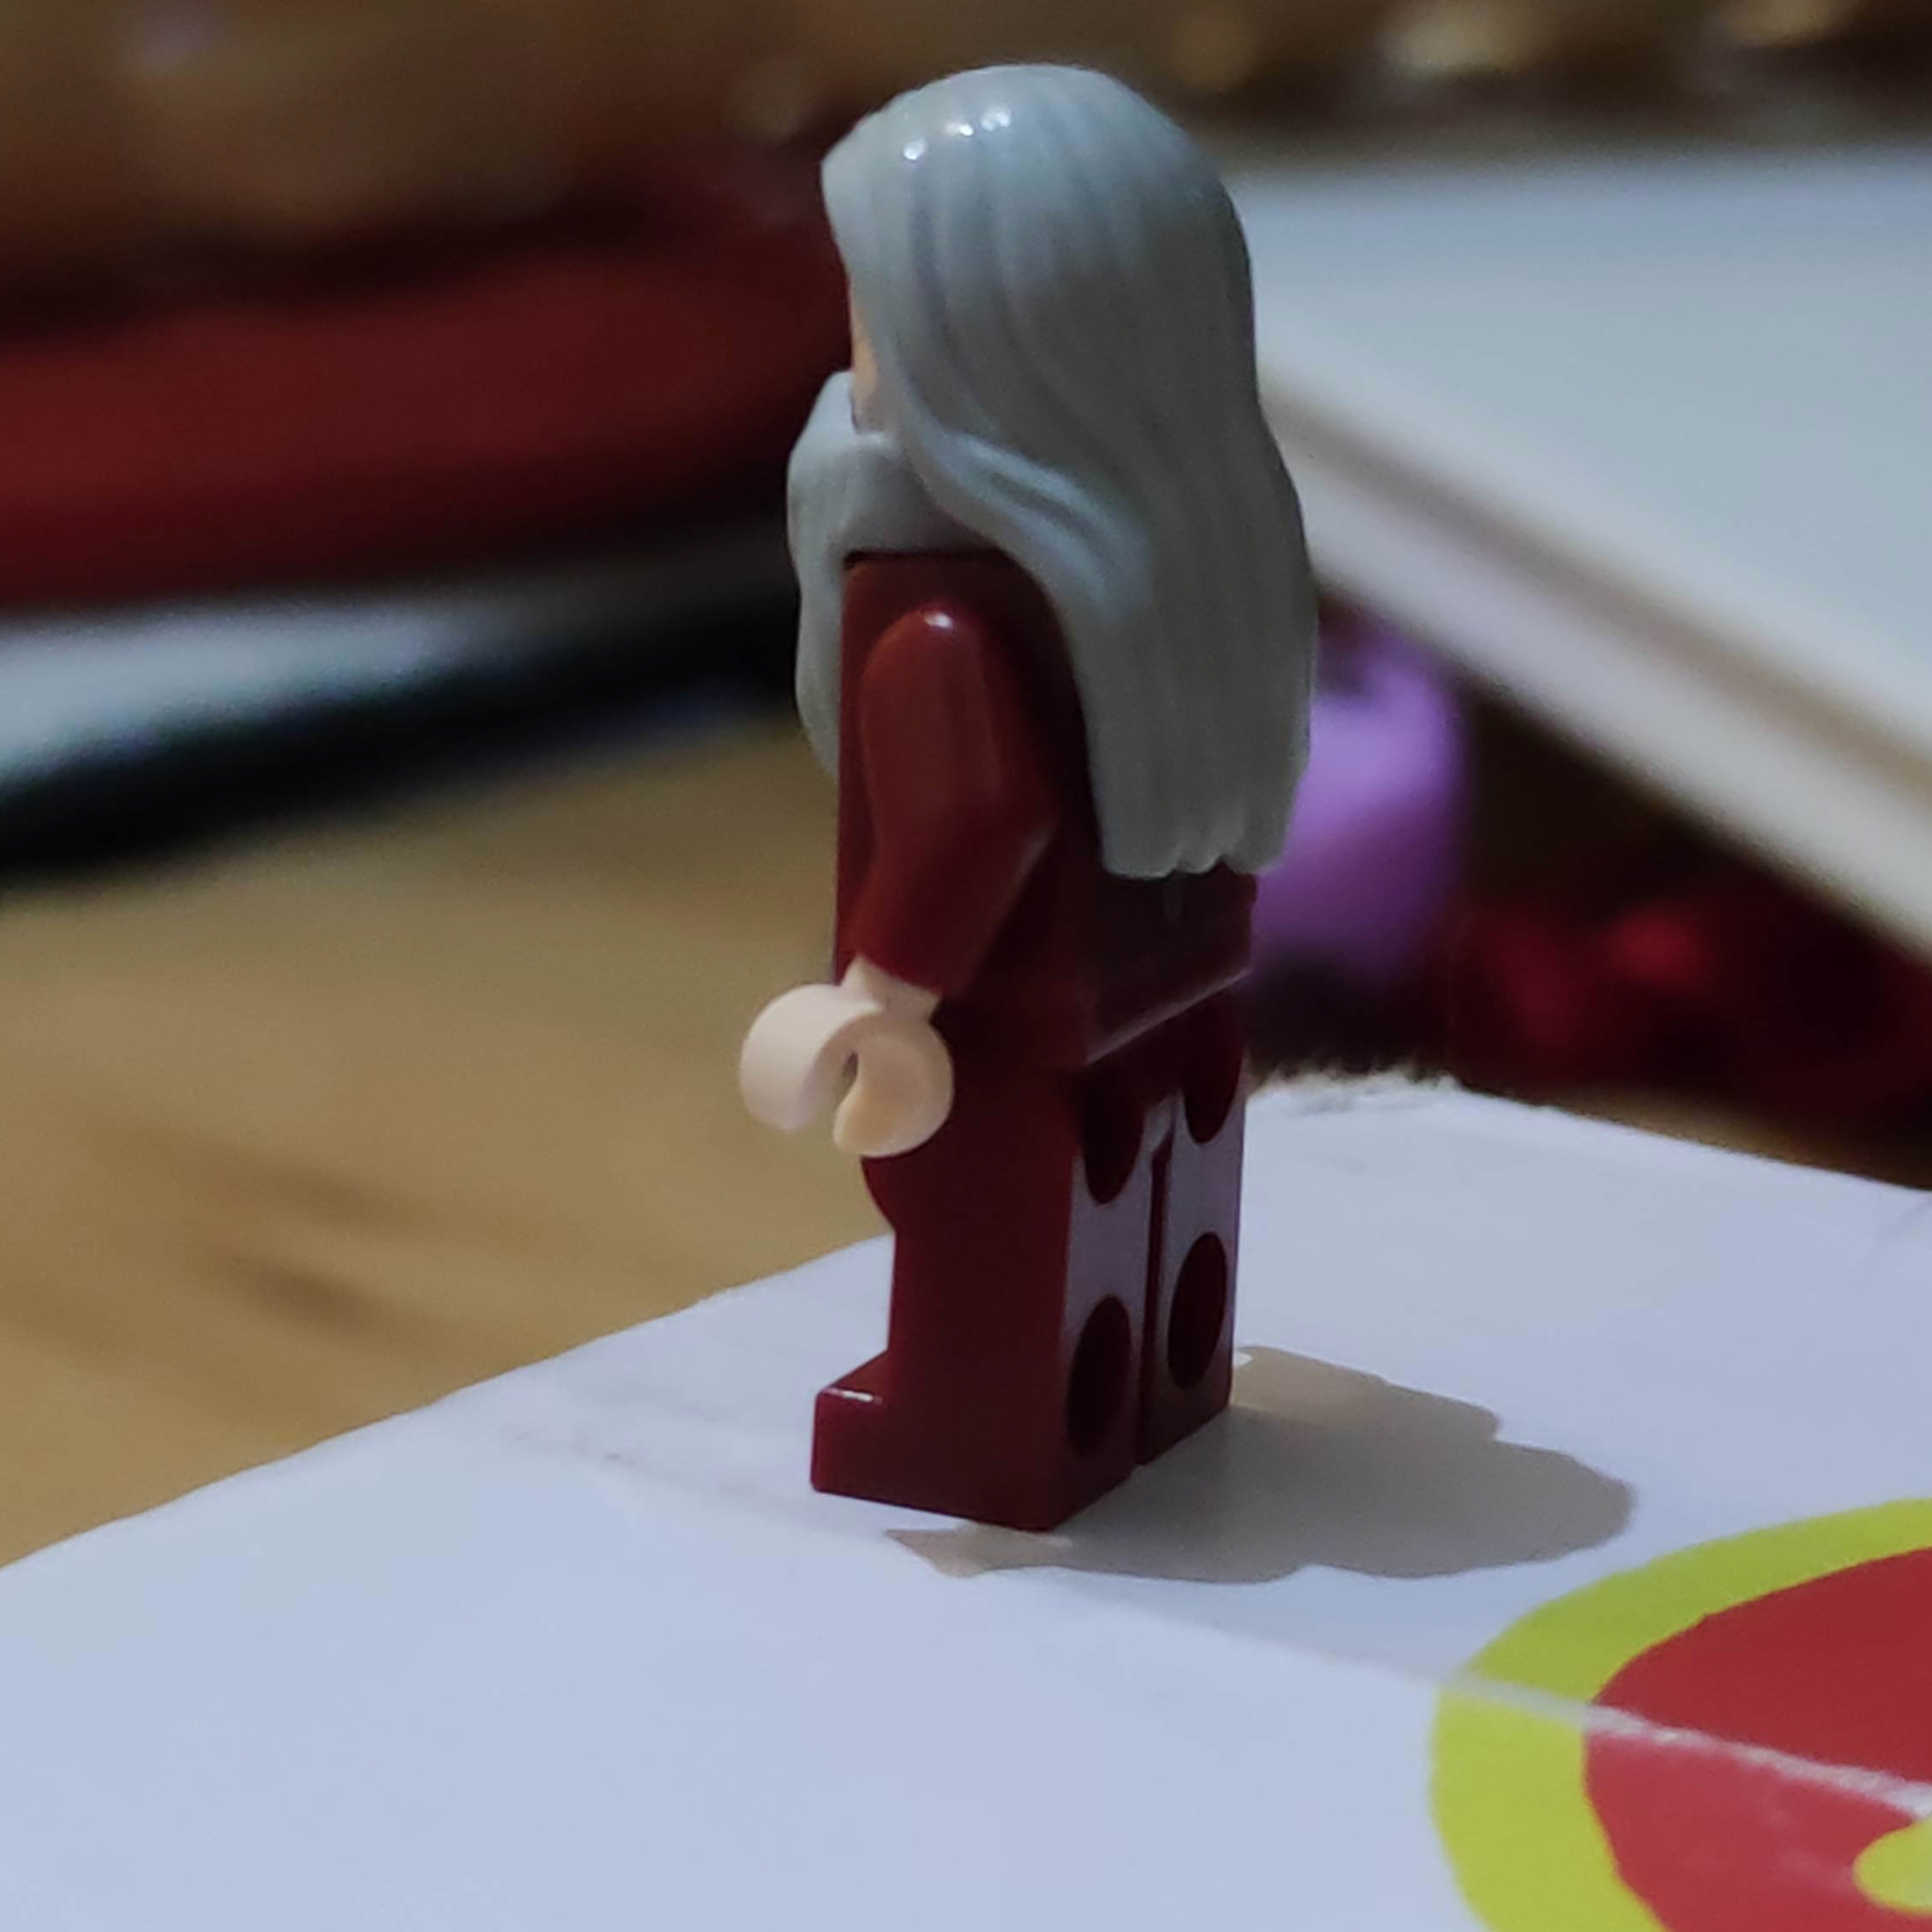lego: (732, 62, 1320, 1527)
